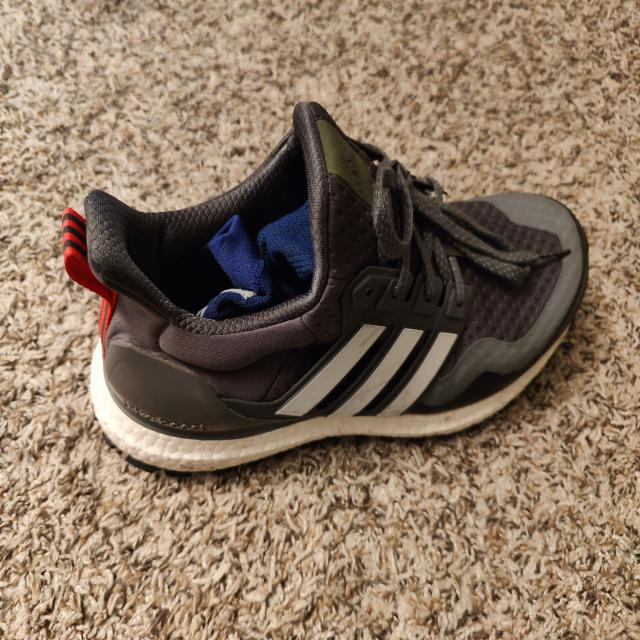black shoes: (64, 101, 588, 476)
